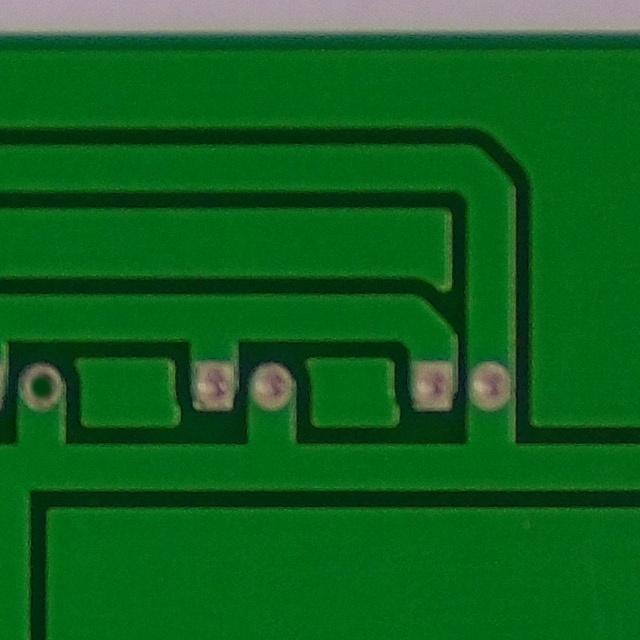missing_hole: (11, 341, 79, 419)
